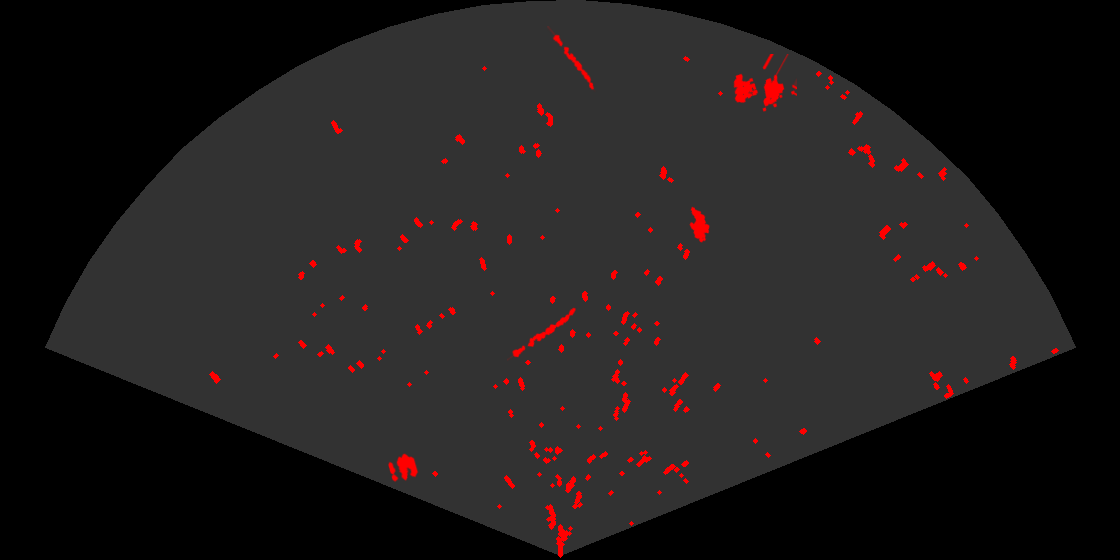AUV: (688, 205, 711, 244)
ball: (387, 452, 420, 484)
cage: (732, 54, 797, 113)
chain: (507, 306, 578, 362), (547, 26, 597, 93)
